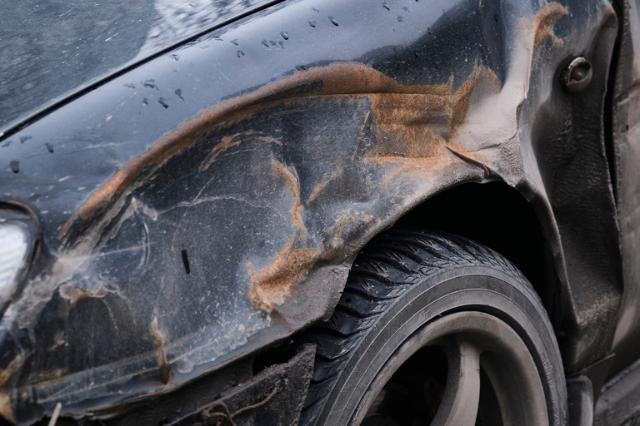Fender: (0, 0, 632, 426)
